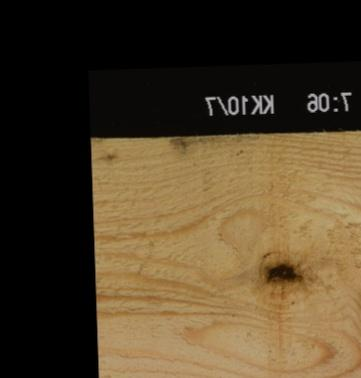small_knot: (100, 149, 117, 161)
